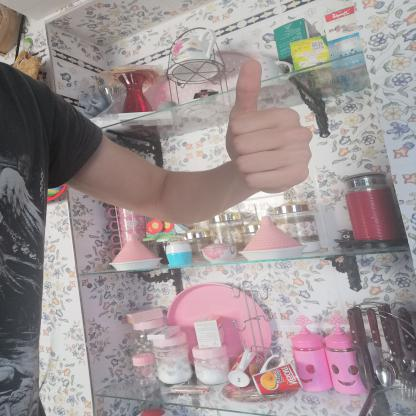ALIF: (207, 47, 325, 202)
